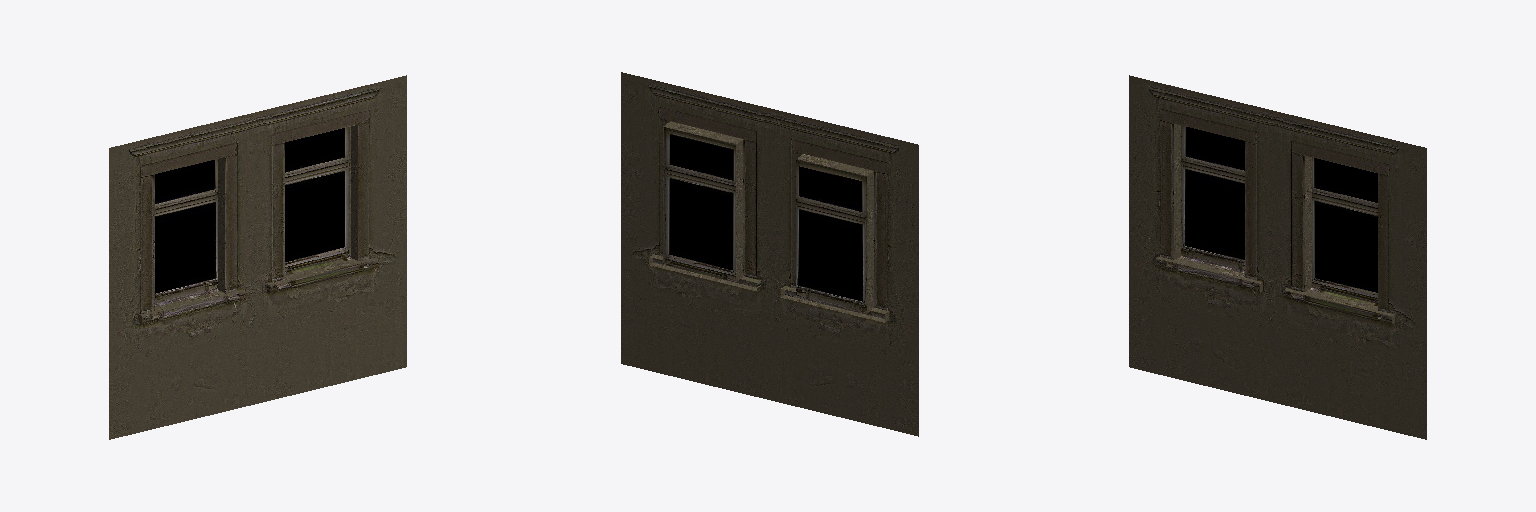
3 renders of one model, left to right at view 1: azimuth 30°, elevation 25°; view 2: azimuth 150°, elevation 25°; view 3: azimuth 330°, elevation 25°, orthographic.
Parts seen in each view (by area): view 1: polySurface151; view 2: polySurface151; view 3: polySurface151.
Part boxes in pixels (bbox=[...]): polySurface151: bbox=[109, 75, 406, 439]; polySurface151: bbox=[621, 72, 918, 436]; polySurface151: bbox=[1129, 75, 1426, 439].
Size of the model in its own units: 2 by 1.88 by 0.1133.
1 materials, 1 textured.